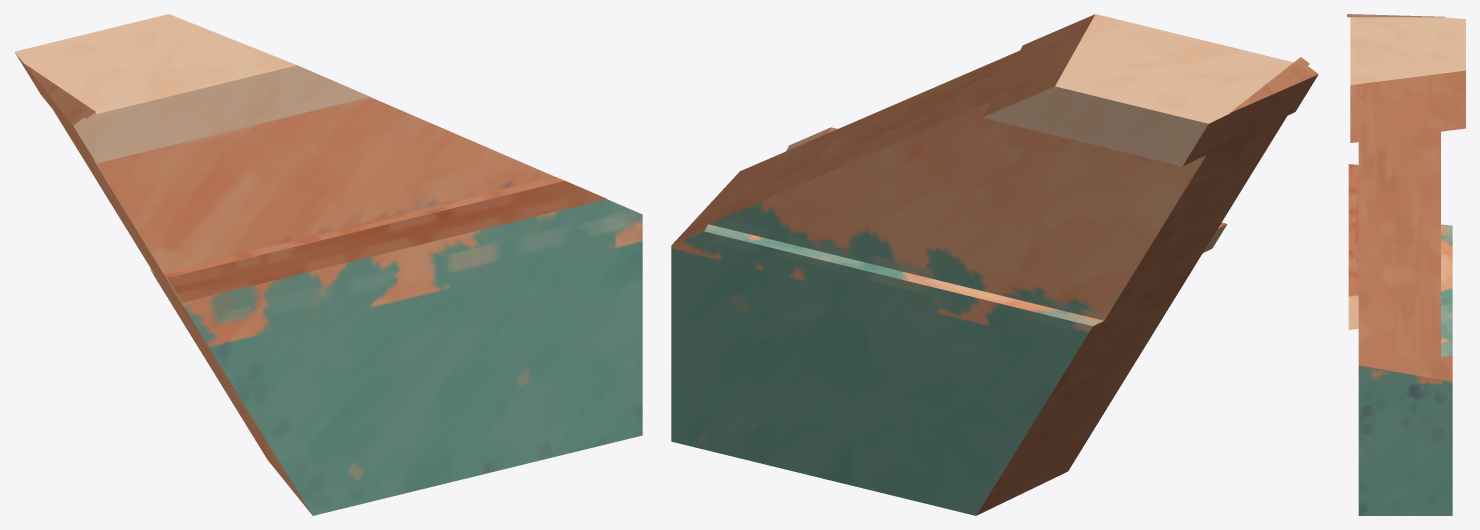
Rendered from wall2_window_s00.fbx.
3 renders of one model, left to right at view 1: azimuth 30°, elevation 25°; view 2: azimuth 150°, elevation 25°; view 3: azimuth 270°, elevation 25°, orthographic. The views are drawn at different scales.
Parts seen in each view (by area): view 1: wall2_window_s00; view 2: wall2_window_s00; view 3: wall2_window_s00.
Part boxes in pixels (x1,y1,x2,y2): wall2_window_s00: (14,14,642,515); wall2_window_s00: (671,14,1318,515); wall2_window_s00: (1347,14,1465,515).
Bounding box in the file's own units: 5.49 × 4.25 × 1.44.
